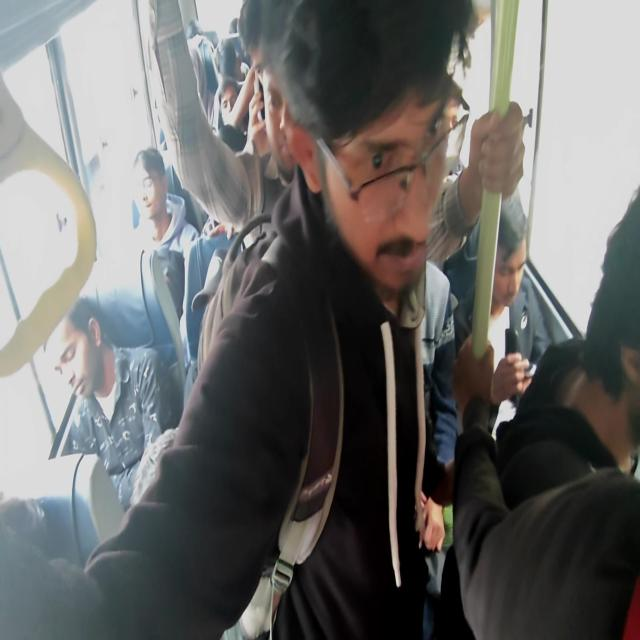person: (289, 19, 465, 298), (557, 209, 639, 464), (183, 271, 250, 404), (253, 29, 309, 183), (41, 302, 122, 401), (484, 198, 534, 308), (133, 146, 184, 230), (212, 76, 248, 153), (206, 178, 242, 249), (238, 10, 272, 77), (182, 12, 200, 52), (222, 51, 244, 78), (229, 18, 244, 42)
